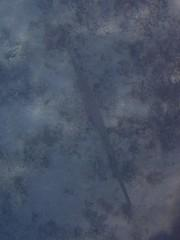Fistularia commersonii: (50, 41, 154, 226)
